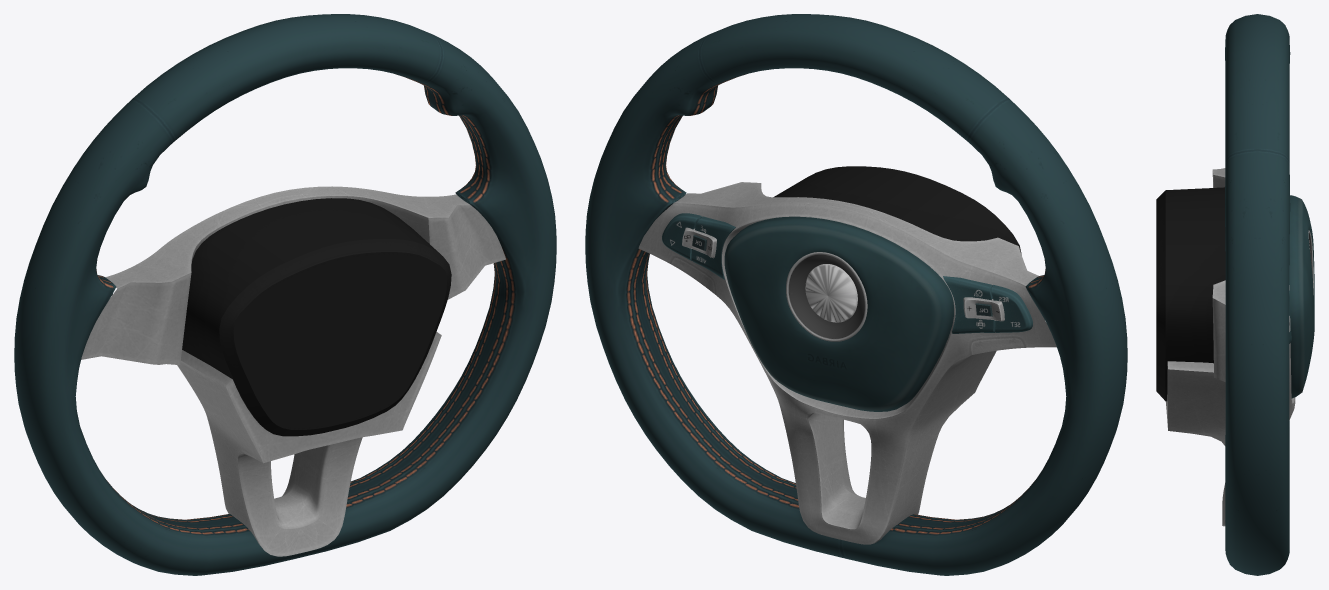
3 views of the same model, side by side, from view 1: azimuth 30°, elevation 25°; view 2: azimuth 150°, elevation 25°; view 3: azimuth 270°, elevation 25° (orthographic). The views are drawn at different scales.
Parts seen in each view (by area): view 1: Object_6; view 2: Object_6; view 3: Object_6.
Boxes of the visible parts, x1,y1,x2,y2 form: Object_6: [14, 14, 556, 575]; Object_6: [585, 14, 1127, 575]; Object_6: [1156, 14, 1314, 575].
Size of the model in its own units: 0.4115 by 0.3947 by 0.1153.
Materials: 1 (1 with a texture image).
